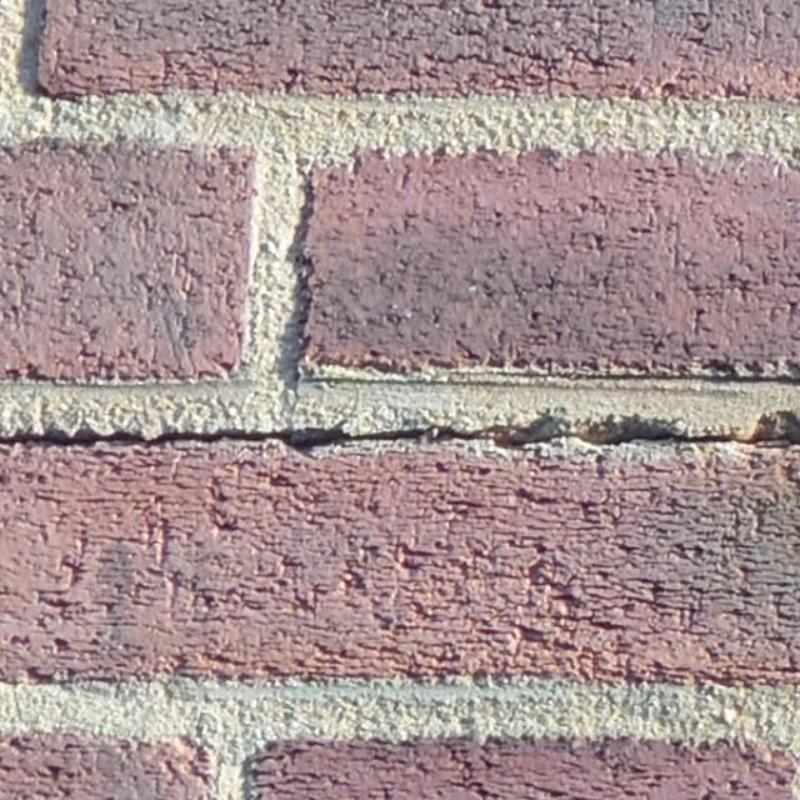crack: (1, 406, 800, 448)
